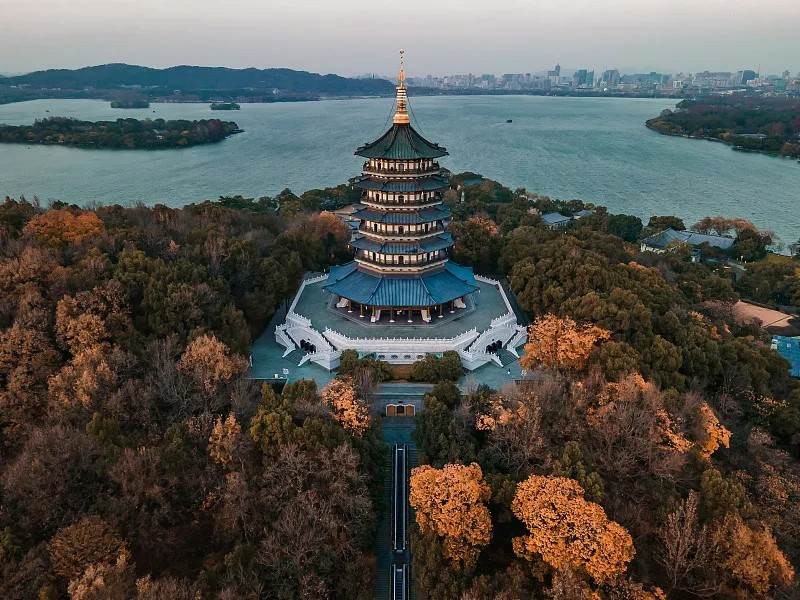Leifeng: (316, 49, 483, 325)
